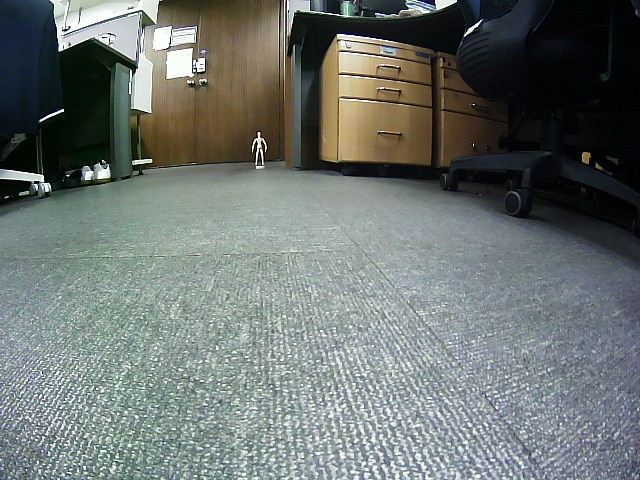person: (250, 130, 267, 166)
